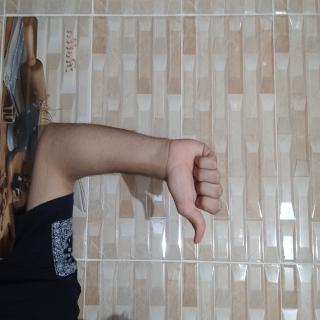DAD: (98, 125, 186, 222)
